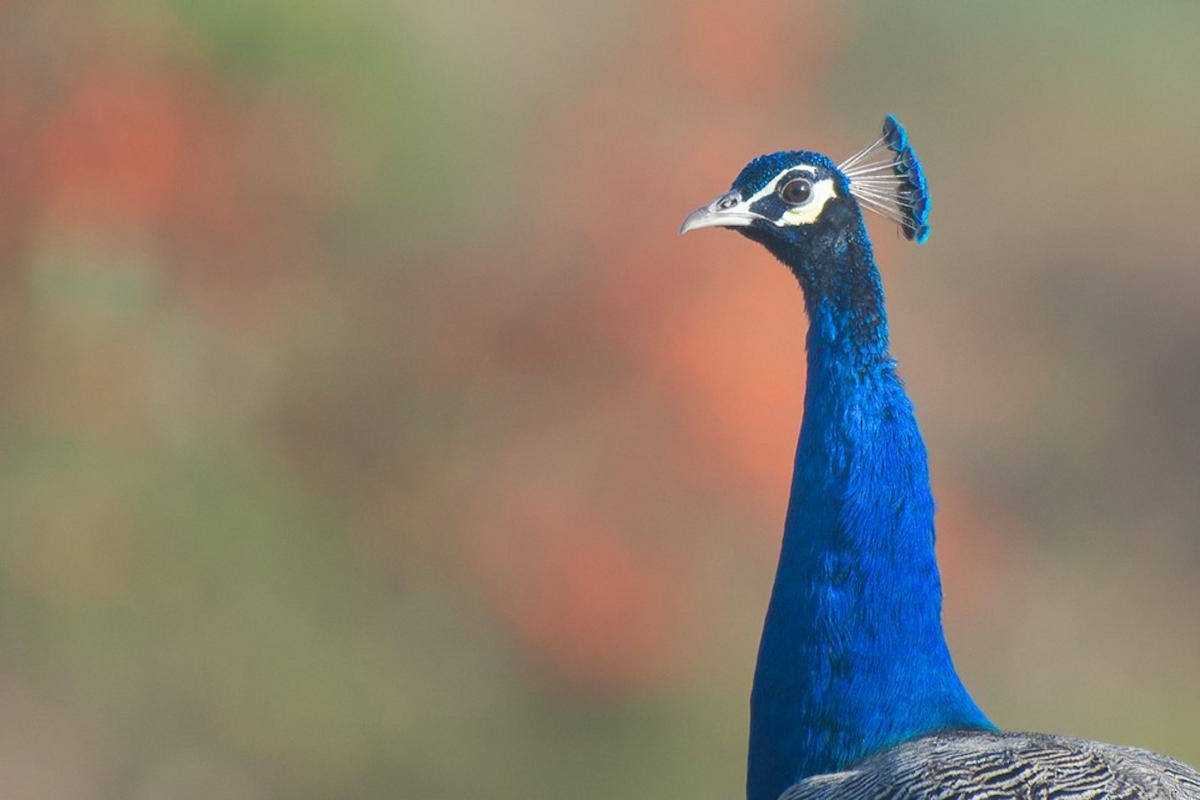peacock: (548, 70, 1200, 800)
